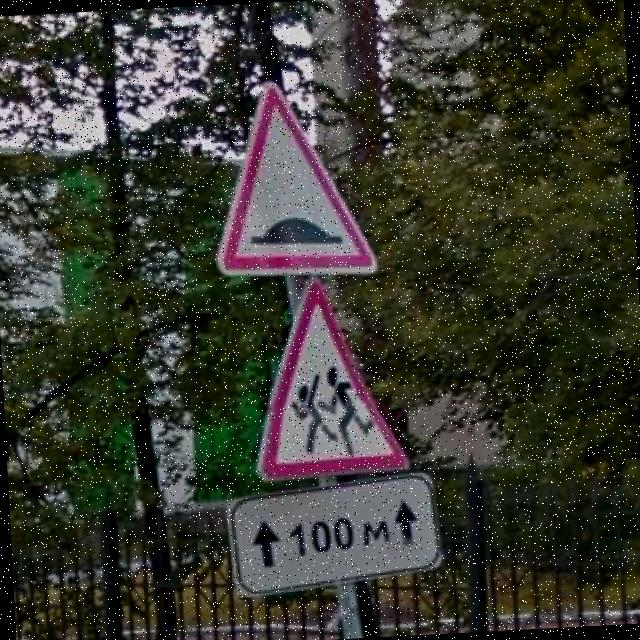Dzieci: (244, 272, 412, 479)
